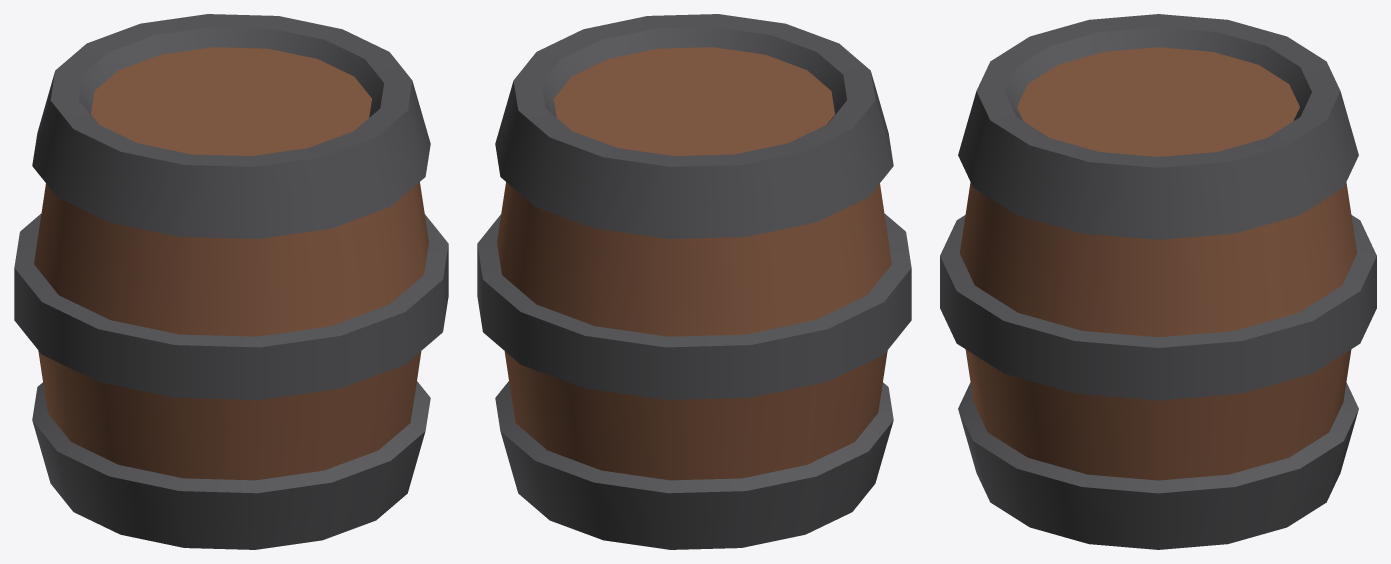
The model's file is Barrel_01.fbx.
The picture shows the model from 3 angles, left to right: view 1: azimuth 30°, elevation 25°; view 2: azimuth 150°, elevation 25°; view 3: azimuth 270°, elevation 25°; orthographic projection.
Parts seen in each view (by area): view 1: Barrel_01; view 2: Barrel_01; view 3: Barrel_01.
Part boxes in pixels (bbox=[...]): Barrel_01: bbox=[14, 14, 448, 549]; Barrel_01: bbox=[477, 14, 911, 549]; Barrel_01: bbox=[940, 14, 1376, 549].
Bounding box in the file's own units: 87.27 × 84.21 × 87.27.
